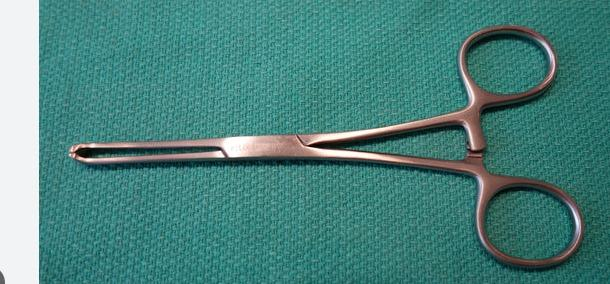Allis Forceps: (64, 17, 590, 273)
